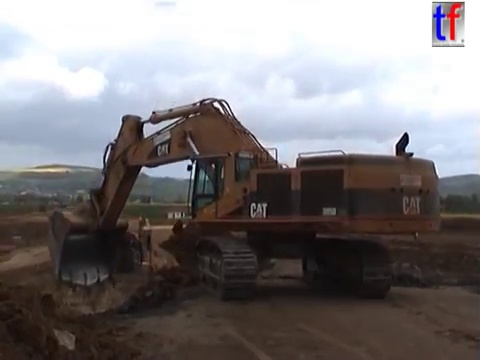excavator: (45, 94, 446, 302)
truck: (131, 214, 283, 296), (36, 202, 48, 214), (59, 201, 70, 211)
worker: (409, 220, 425, 244)
